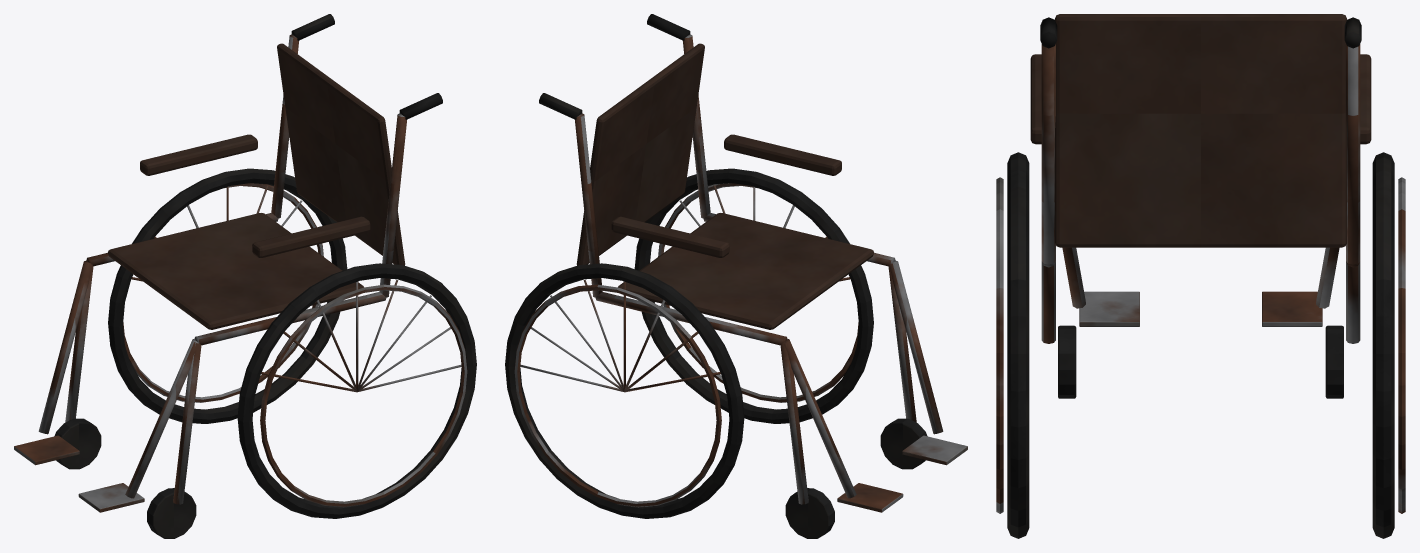
Rendered from H02_wheelchair.glb.
3 renders of one model, left to right at view 1: azimuth 30°, elevation 25°; view 2: azimuth 150°, elevation 25°; view 3: azimuth 270°, elevation 25°, orthographic. The views are drawn at different scales.
Parts seen in each view (by area): view 1: H02_wheelchair; view 2: H02_wheelchair; view 3: H02_wheelchair.
Part boxes in pixels (box(x1,y1,x2,y2)): H02_wheelchair: box(14, 14, 476, 538); H02_wheelchair: box(505, 14, 967, 538); H02_wheelchair: box(996, 14, 1405, 538).
Bounding box in the file's own units: 0.9464 × 1 × 0.671.
Materials: 4 (4 with a texture image).
